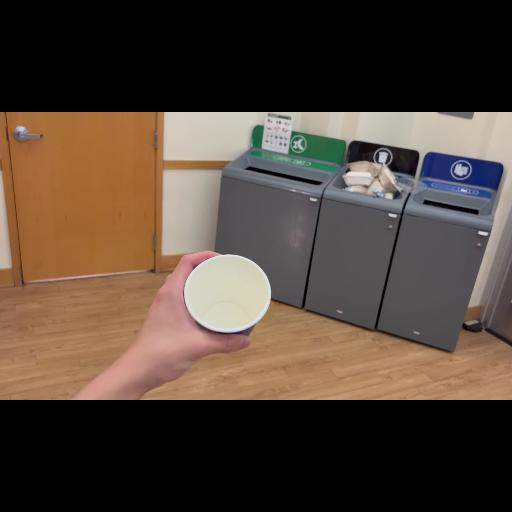lp_paper_cup: (182, 252, 272, 336)
